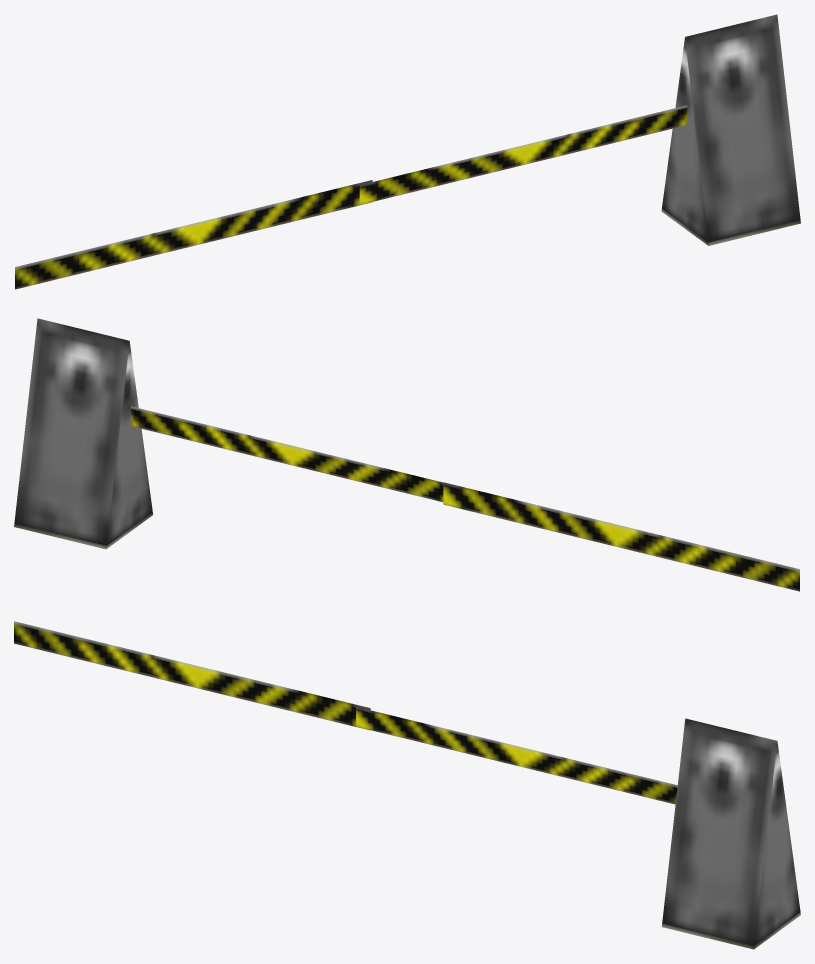
Rendered from milcheckpoint.glb.
3 views of the same model, one above another, from view 1: azimuth 30°, elevation 25°; view 2: azimuth 150°, elevation 25°; view 3: azimuth 330°, elevation 25° (orthographic).
Visible parts, largest first — view 1: MilitaryCheckHolder, gate_a, gate_b; view 2: MilitaryCheckHolder, gate_a, gate_b; view 3: MilitaryCheckHolder, gate_a, gate_b.
Boxes of the visible parts, left/top/right/bottom form: MilitaryCheckHolder: left=661, top=14, right=800, bottom=245; gate_a: left=15, top=180, right=372, bottom=289; gate_b: left=359, top=105, right=687, bottom=204; MilitaryCheckHolder: left=14, top=318, right=153, bottom=549; gate_a: left=443, top=482, right=799, bottom=591; gate_b: left=131, top=406, right=443, bottom=502; MilitaryCheckHolder: left=661, top=718, right=800, bottom=949; gate_a: left=14, top=621, right=370, bottom=730; gate_b: left=356, top=707, right=677, bottom=804.
Bounding box in the file's own units: 6.54 × 1.57 × 0.6999.
1 material, 1 textured.
